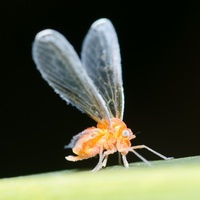insect: (32, 18, 170, 170)
